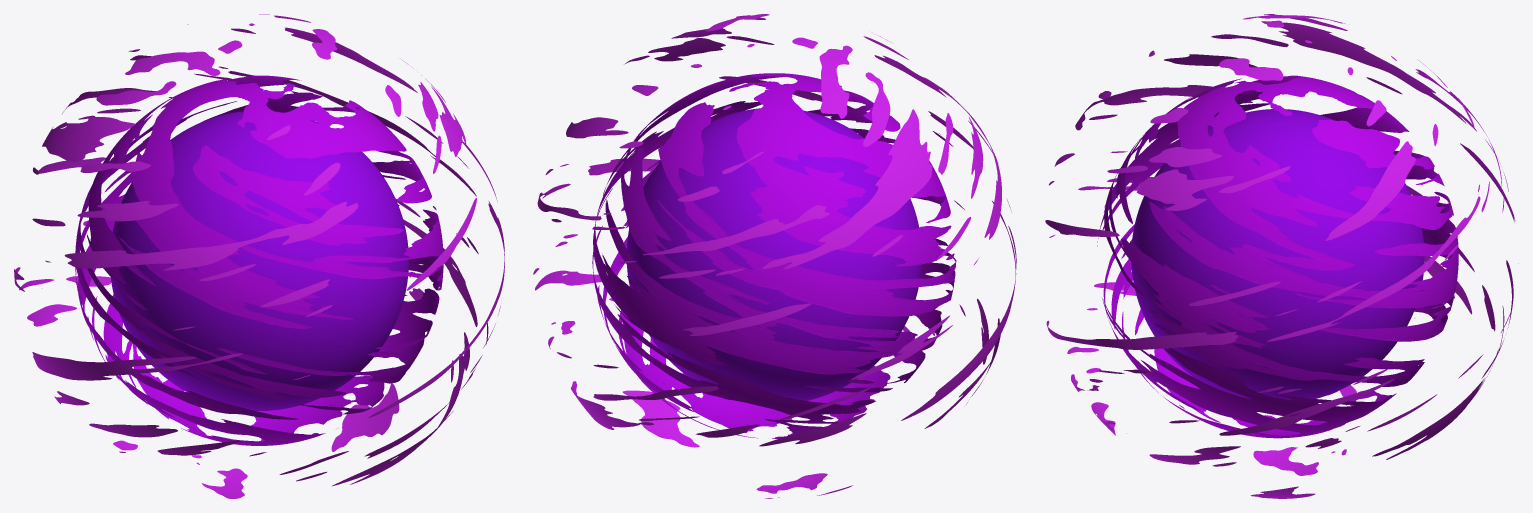
File: uploads_files_3793582_BALL.fbx
3 renders of one model, left to right at view 1: azimuth 30°, elevation 25°; view 2: azimuth 150°, elevation 25°; view 3: azimuth 270°, elevation 25°, orthographic.
Visible parts, largest first — view 1: ทรงกลม.001, ทรงกลม.002, ทรงกลม; view 2: ทรงกลม.001, ทรงกลม, ทรงกลม.002; view 3: ทรงกลม.001, ทรงกลม.002, ทรงกลม.
Boxes of the visible parts, box(x1,y1,x2,y2) form: ทรงกลม.001: box(75, 75, 443, 445); ทรงกลม.002: box(110, 111, 408, 410); ทรงกลม: box(14, 14, 504, 498); ทรงกลม.001: box(592, 73, 956, 438); ทรงกลม: box(533, 14, 1016, 498); ทรงกลม.002: box(626, 108, 921, 400); ทรงกลม.001: box(1097, 75, 1458, 438); ทรงกลม.002: box(1131, 109, 1424, 400); ทรงกลม: box(1045, 14, 1518, 498).
Size of the model in its own units: 195 by 198 by 193.
